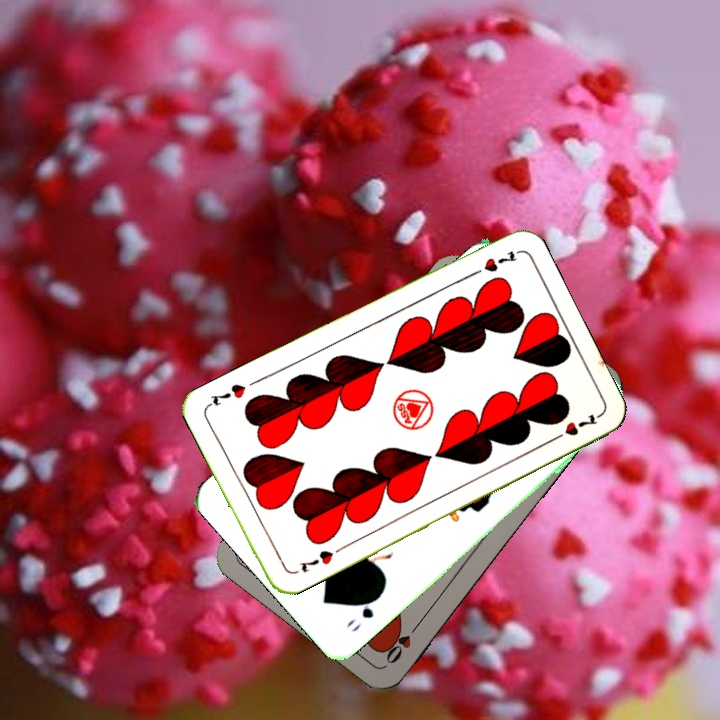GO: (341, 590, 384, 635)
H7: (465, 247, 520, 280), (294, 546, 336, 575)
HO: (380, 617, 424, 667)
